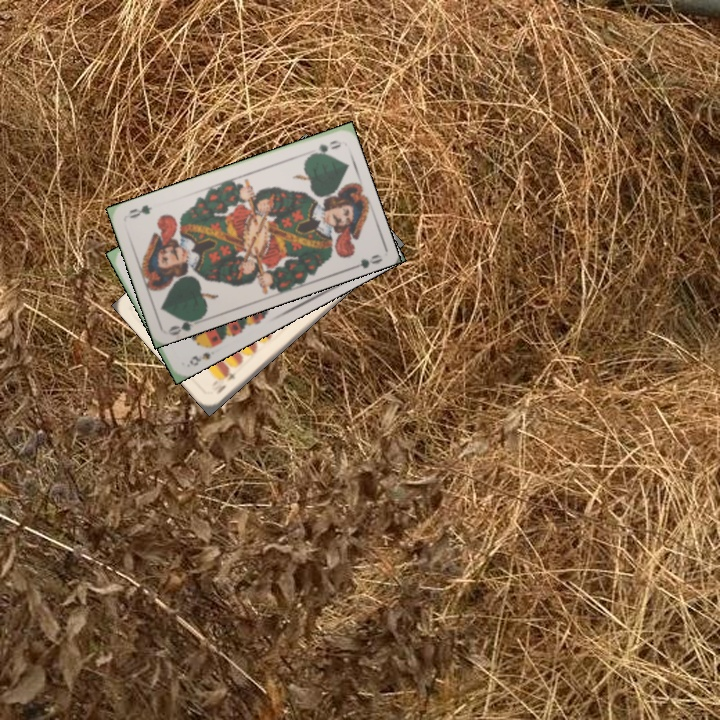E10: (212, 366, 242, 397)
GO: (165, 314, 204, 338), (304, 136, 341, 161)
S9: (185, 338, 218, 369)
